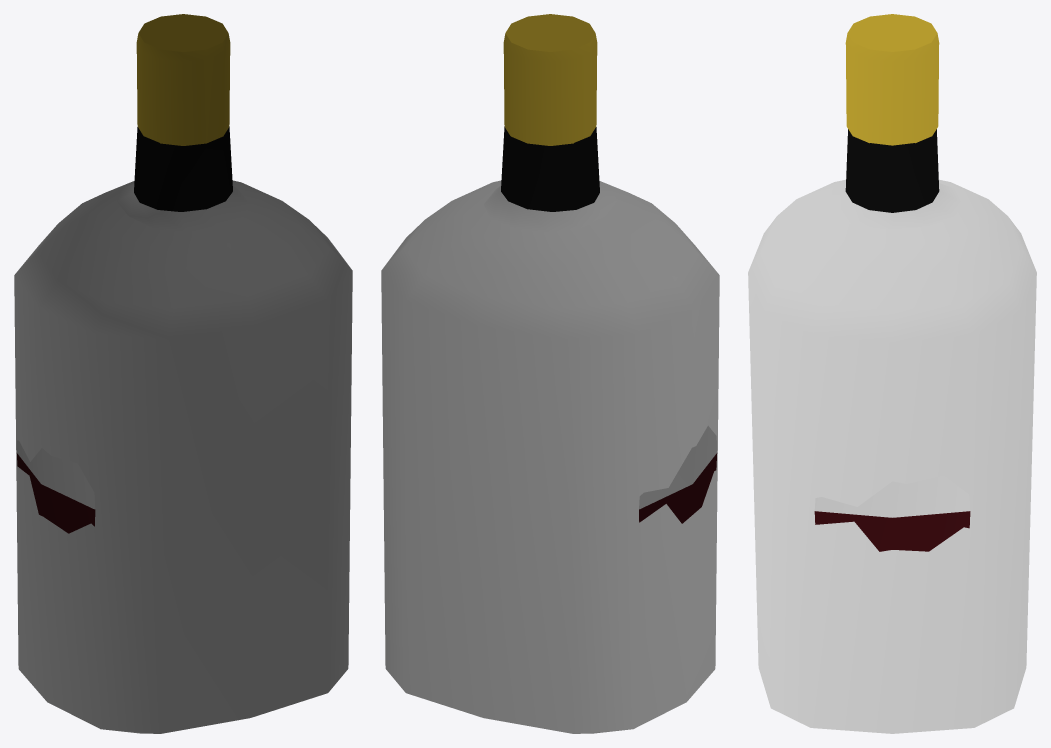
Rendered from Bottle_bb9c6d69.obj.
3 renders of one model, left to right at view 1: azimuth 30°, elevation 25°; view 2: azimuth 150°, elevation 25°; view 3: azimuth 270°, elevation 25°, orthographic.
Visible parts, largest first — view 1: Bottle_bb9c6d69; view 2: Bottle_bb9c6d69; view 3: Bottle_bb9c6d69.
Boxes of the visible parts, x1,y1,x2,y2 form: Bottle_bb9c6d69: (14,14,352,733); Bottle_bb9c6d69: (381,14,719,733); Bottle_bb9c6d69: (748,14,1036,733).
Size of the model in its own units: 0.0865 by 0.1857 by 0.075.
